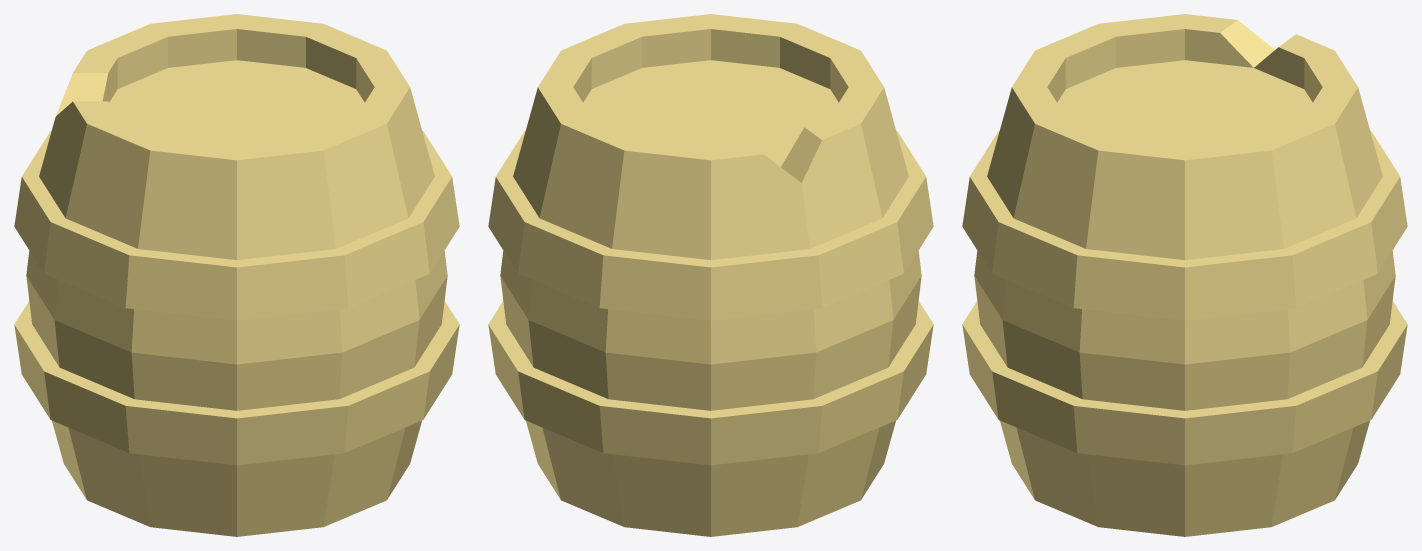
File: Barrel.001.fbx
The picture shows the model from 3 angles, left to right: view 1: azimuth 30°, elevation 25°; view 2: azimuth 150°, elevation 25°; view 3: azimuth 270°, elevation 25°; orthographic projection.
Visible parts, largest first — view 1: Barrel.001; view 2: Barrel.001; view 3: Barrel.001.
Part boxes in pixels (x1,y1,x2,y2): Barrel.001: (14,14,459,536); Barrel.001: (488,14,933,536); Barrel.001: (962,14,1407,536).
Bounding box in the file's own units: 93.22 × 86.99 × 93.22.
